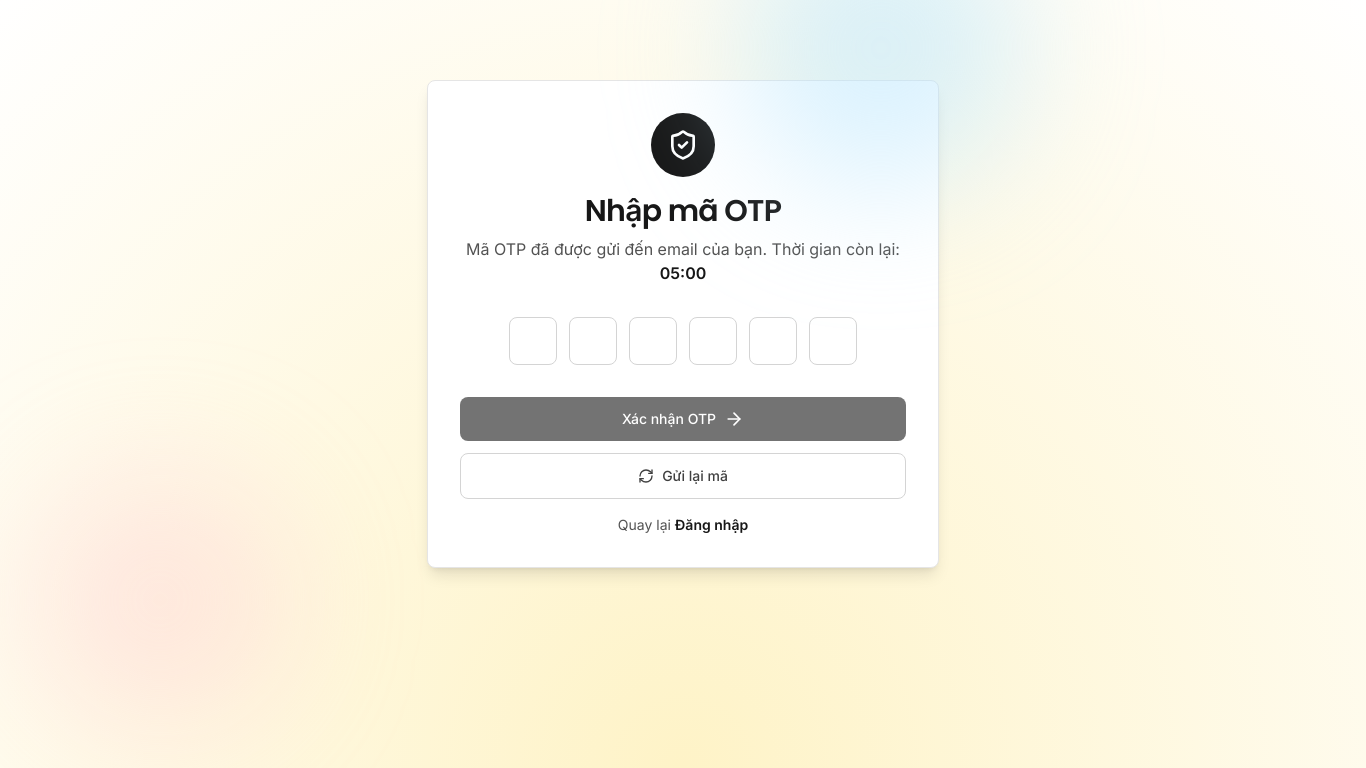
Test: OtpVerifyPage › shows resend wait error when timer has not reached zero
This screenshot has width=1366, height=768.
Click the button "Gửi lại mã". click: [683, 476]
box: x1=460 y1=453 x2=906 y2=499
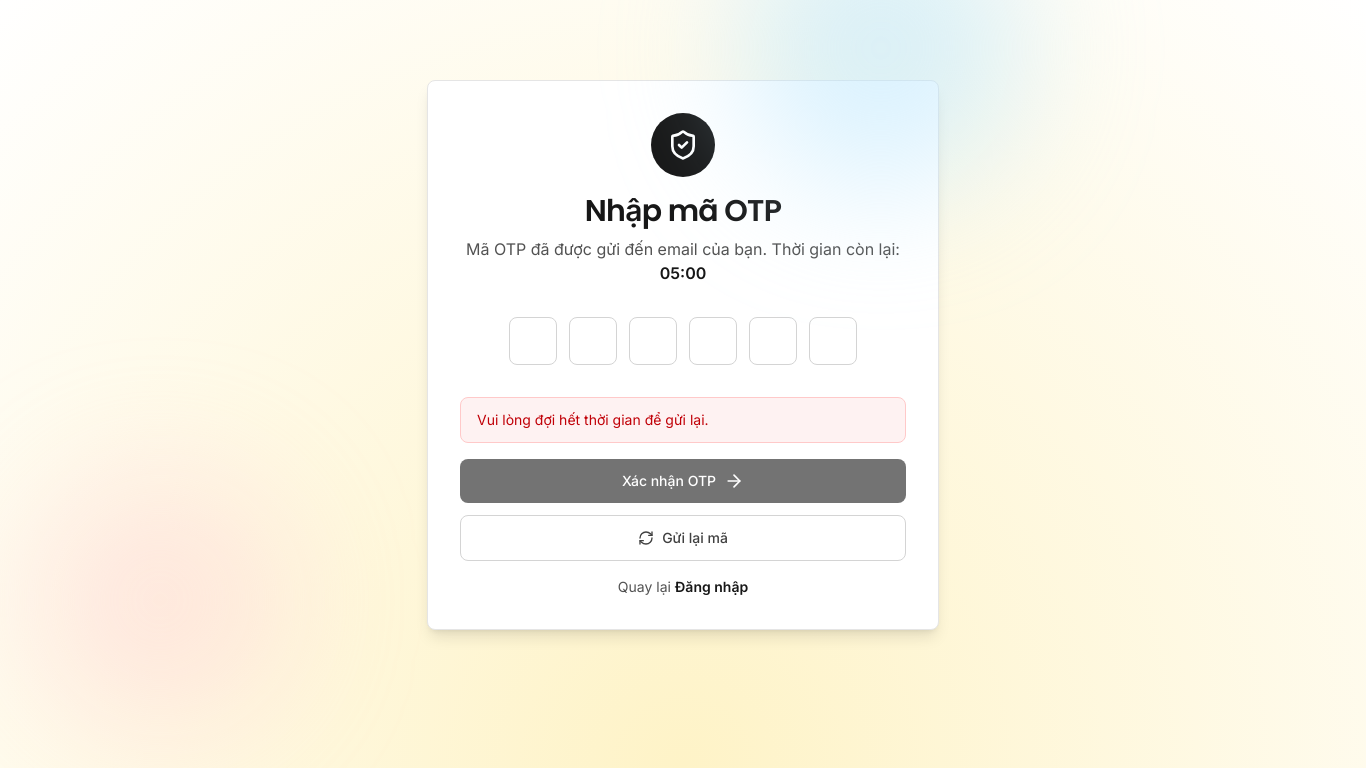
Expected: the text "Vui lòng đợi hết thời gian để gửi lại." is shown, x1=460 y1=397 x2=906 y2=443
